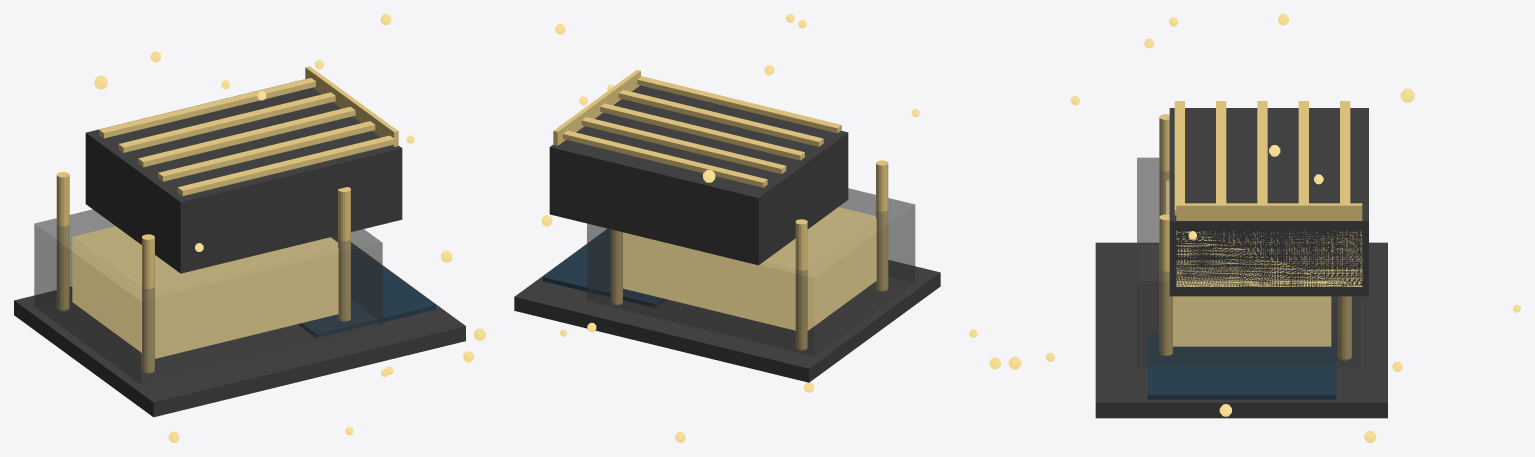
Rendered from residential_bubble.glb.
3 views of the same model, side by side, from view 1: azimuth 30°, elevation 25°; view 2: azimuth 150°, elevation 25°; view 3: azimuth 270°, elevation 25° (orthographic). The views are drawn at different scales.
Visible parts, largest first — view 1: Cube.002, Cube.004, Cube, Cube.003, Cube.001, Cube.006, Cube.009, Cube.007, Cube.008, Cube.010, Cylinder.001, Cylinder (+2 smaller); view 2: Cube.002, Cube.004, Cube, Cube.003, Cube.001, Cube.007, Cube.009, Cube.006, Cube.008, Cube.010, Cylinder, Cylinder.001 (+2 smaller); view 3: Cube.004, Cube, Cube.002, Cube.001, Cube.003, Cube.005, Cube.011, Cylinder.002, Cube.006, Cube.008, Cube.007, Cube.009 (+3 smaller).
Part boxes in pixels (x1,y1,x2,y2): Cube.002: [34, 209, 382, 384]; Cube.004: [85, 79, 402, 273]; Cube: [14, 235, 465, 417]; Cube.003: [72, 226, 338, 358]; Cube.001: [297, 241, 435, 338]; Cube.006: [177, 135, 395, 195]; Cube.009: [118, 92, 335, 152]; Cube.007: [158, 121, 375, 181]; Cube.008: [138, 106, 355, 167]; Cube.010: [99, 78, 315, 138]; Cylinder.001: [56, 172, 69, 310]; Cylinder: [142, 234, 154, 373]; Cube.002: [587, 188, 915, 356]; Cube.004: [549, 85, 848, 265]; Cube: [514, 229, 940, 382]; Cube.003: [623, 207, 876, 330]; Cube.001: [543, 229, 666, 308]; Cube.007: [618, 90, 823, 146]; Cube.009: [581, 117, 786, 173]; Cube.006: [637, 76, 841, 133]; Cube.008: [600, 103, 804, 160]; Cube.010: [563, 130, 767, 187]; Cylinder: [876, 160, 888, 291]; Cylinder.001: [795, 219, 807, 350]; Cube.004: [1169, 108, 1368, 296]; Cube: [1095, 242, 1387, 418]; Cube.002: [1137, 157, 1360, 368]; Cube.001: [1147, 334, 1336, 399]; Cube.003: [1166, 180, 1331, 346]; Cube.005: [1176, 231, 1362, 286]; Cube.011: [1176, 203, 1362, 220]; Cylinder.002: [1159, 214, 1172, 355]; Cube.006: [1174, 101, 1184, 215]; Cube.008: [1257, 101, 1267, 203]; Cube.007: [1216, 101, 1226, 203]; Cube.009: [1298, 101, 1308, 203].
Size of the model in its own units: 1.27 by 1.3 by 1.6.
